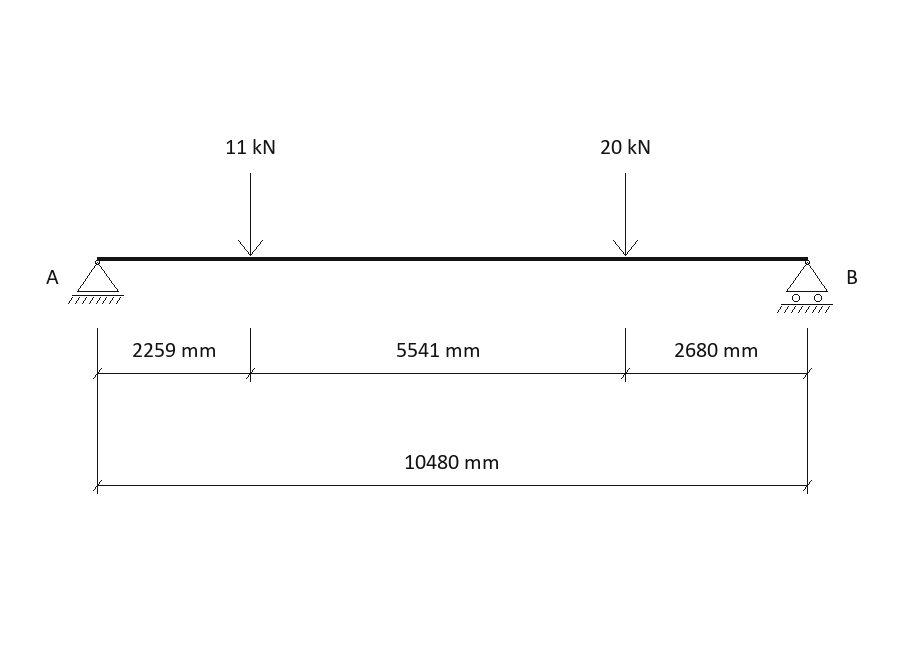pin_support: (68, 260, 124, 304)
point_load: (238, 173, 263, 256), (613, 173, 638, 256)
roller_support: (777, 260, 833, 313)
